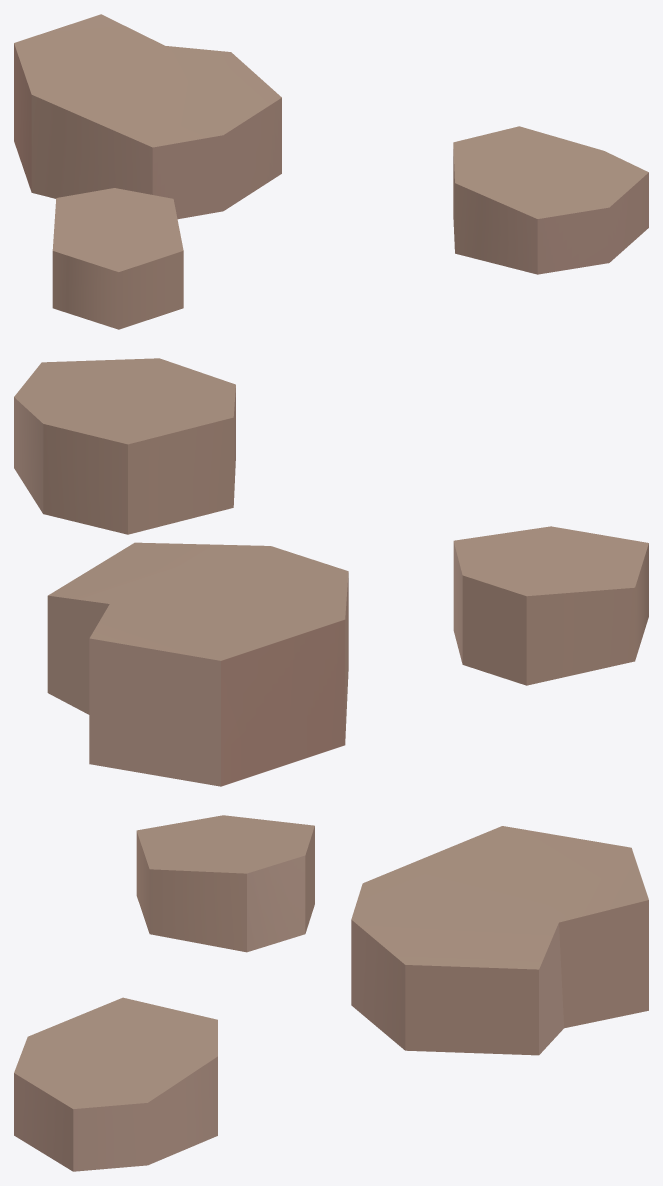
File: NPC_Stones_002.glb
3 views of the same model, one above another, from view 1: azimuth 30°, elevation 25°; view 2: azimuth 150°, elevation 25°; view 3: azimuth 270°, elevation 25° (orthographic). The views are drawn at different scales.
Parts seen in each view (by area): view 1: NPC_Stones_002_mesh; view 2: NPC_Stones_002_mesh; view 3: NPC_Stones_002_mesh.
Boxes of the visible parts, x1,y1,x2,y2 form: NPC_Stones_002_mesh: [14, 14, 648, 329]; NPC_Stones_002_mesh: [14, 358, 648, 786]; NPC_Stones_002_mesh: [14, 815, 648, 1171].
Bounding box in the file's own units: 1.7 × 0.3017 × 1.57.
Materials: 1 (1 with a texture image).
